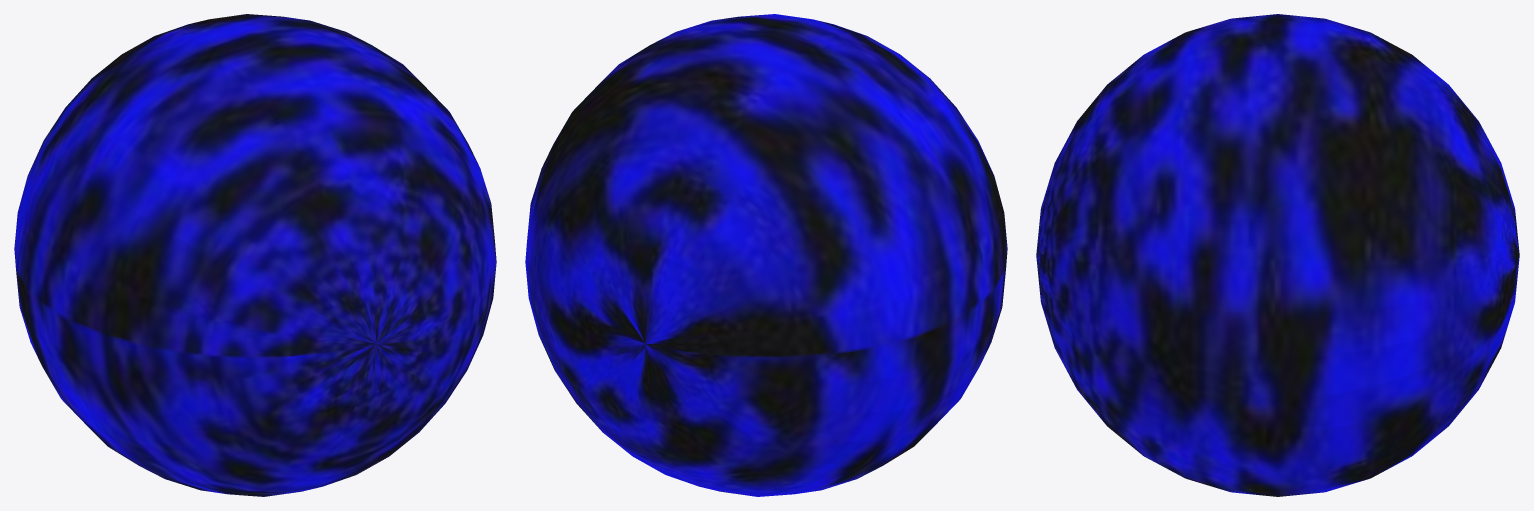
The model's file is mimita-memorial.glb.
3 renders of one model, left to right at view 1: azimuth 30°, elevation 25°; view 2: azimuth 150°, elevation 25°; view 3: azimuth 270°, elevation 25°, orthographic.
Visible parts, largest first — view 1: Sphere; view 2: Sphere; view 3: Sphere.
Part boxes in pixels (x1,y1,x2,y2): Sphere: [14, 14, 496, 496]; Sphere: [525, 14, 1007, 496]; Sphere: [1036, 14, 1519, 496].
Bounding box in the file's own units: 500 × 500 × 500.
53 materials, 53 textured.
